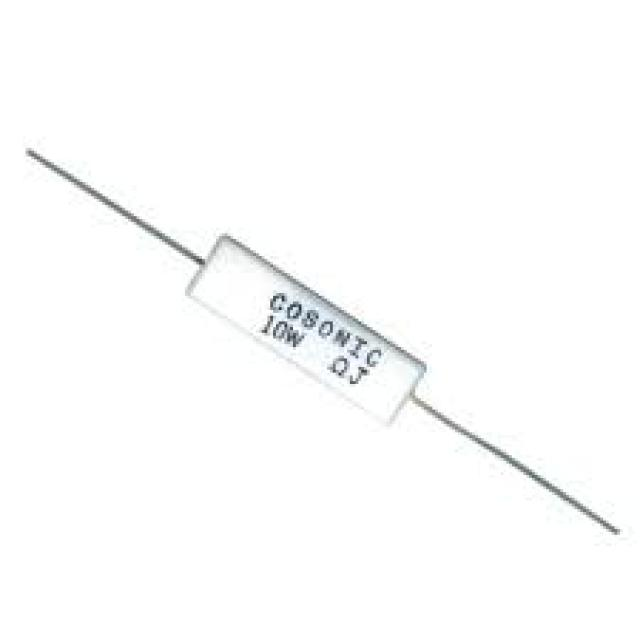Resistor: (187, 237, 426, 424)
